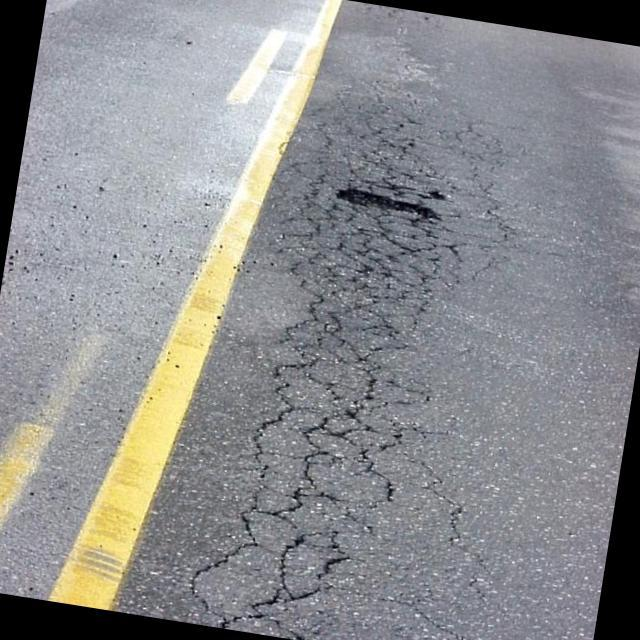Pothole: (334, 186, 444, 222)
